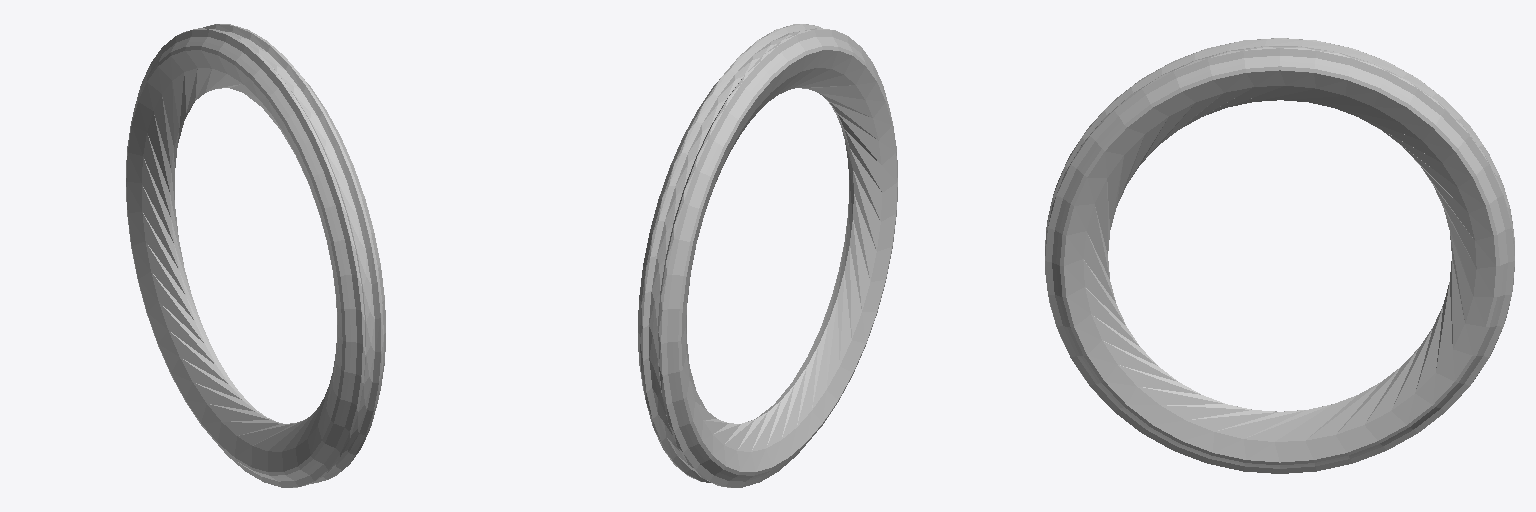
The model's file is vehicule_matless_groupless.obj.
3 renders of one model, left to right at view 1: azimuth 30°, elevation 25°; view 2: azimuth 150°, elevation 25°; view 3: azimuth 270°, elevation 25°, orthographic.
Bounding box in the file's own units: 0.9428 × 8.92 × 8.92.